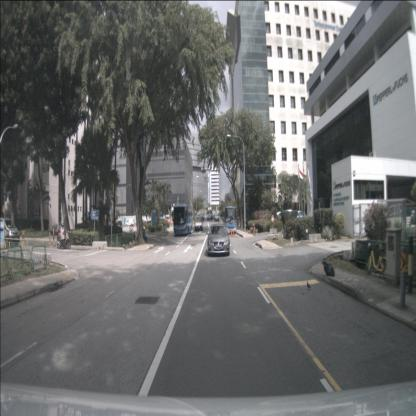human-pedestrian-adult: (142, 230, 147, 242)
movable_object-trafficcone: (232, 230, 235, 237), (230, 230, 233, 236)
vehicle-bicycle: (366, 240, 389, 276)
vehicle-bus-rigid: (173, 204, 193, 235), (221, 206, 237, 235)
vehicle-car: (207, 224, 230, 256), (0, 216, 20, 248), (291, 210, 309, 226), (194, 214, 204, 232), (126, 218, 136, 227), (207, 210, 212, 221), (215, 213, 219, 222)
vehicle-motorcycle: (57, 222, 72, 250)
vehicle-truck: (198, 209, 204, 222)
